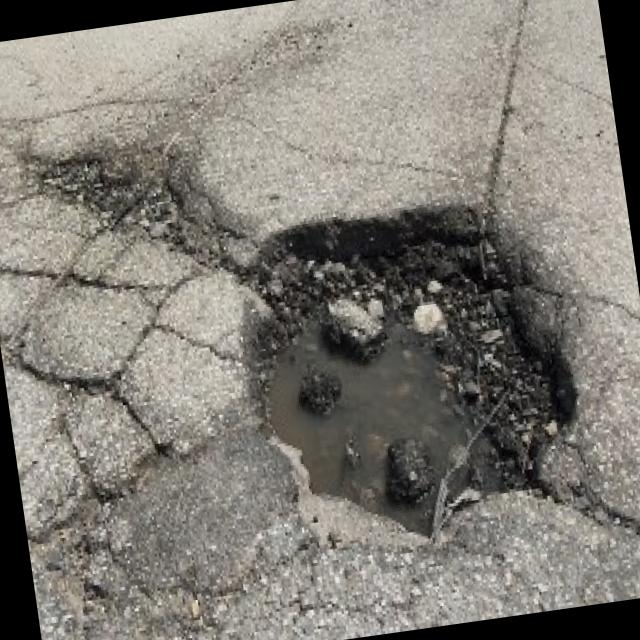Potholes: (152, 135, 611, 606)
